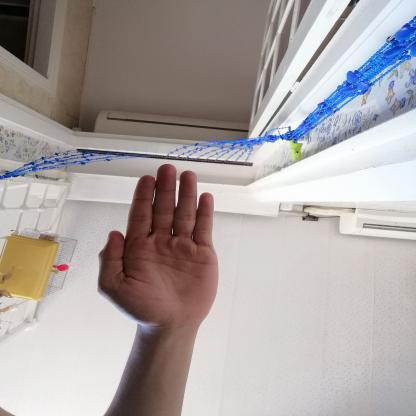SEEN: (83, 153, 230, 333)
